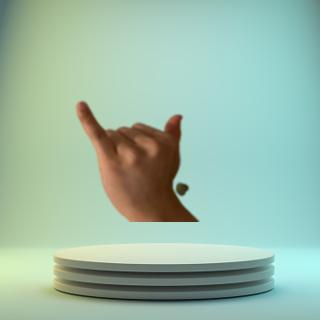HAVE: (67, 92, 193, 210)
